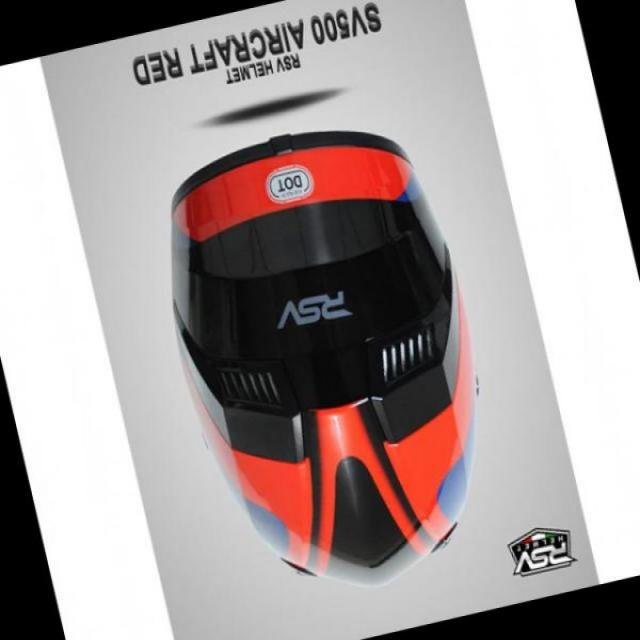Helmet: (139, 172, 462, 574)
